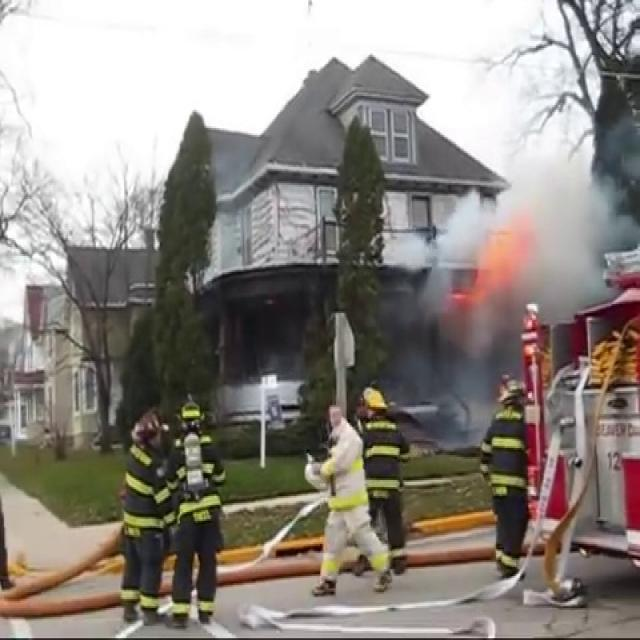Smoke: (421, 106, 634, 346)
